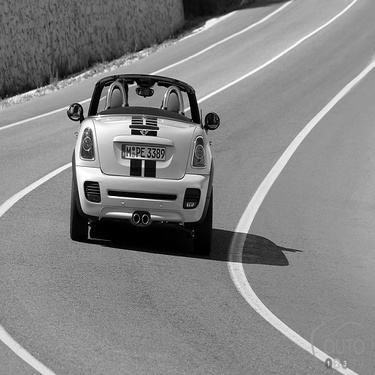car: (60, 65, 222, 260)
